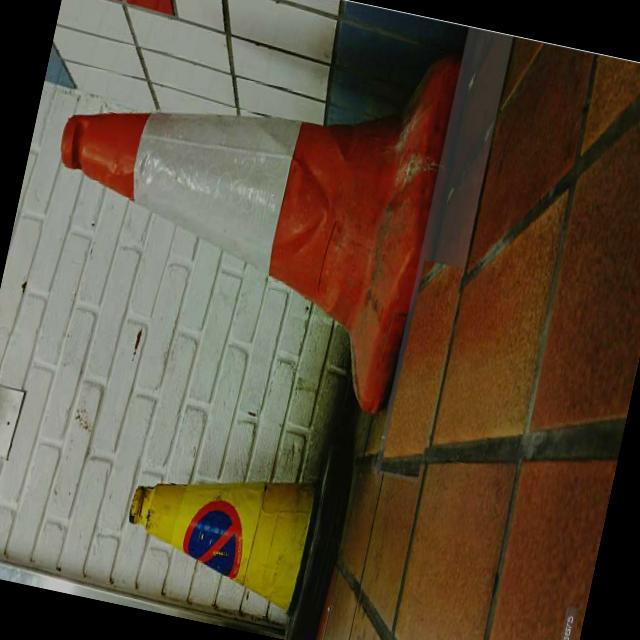cone: (12, 0, 467, 382)
